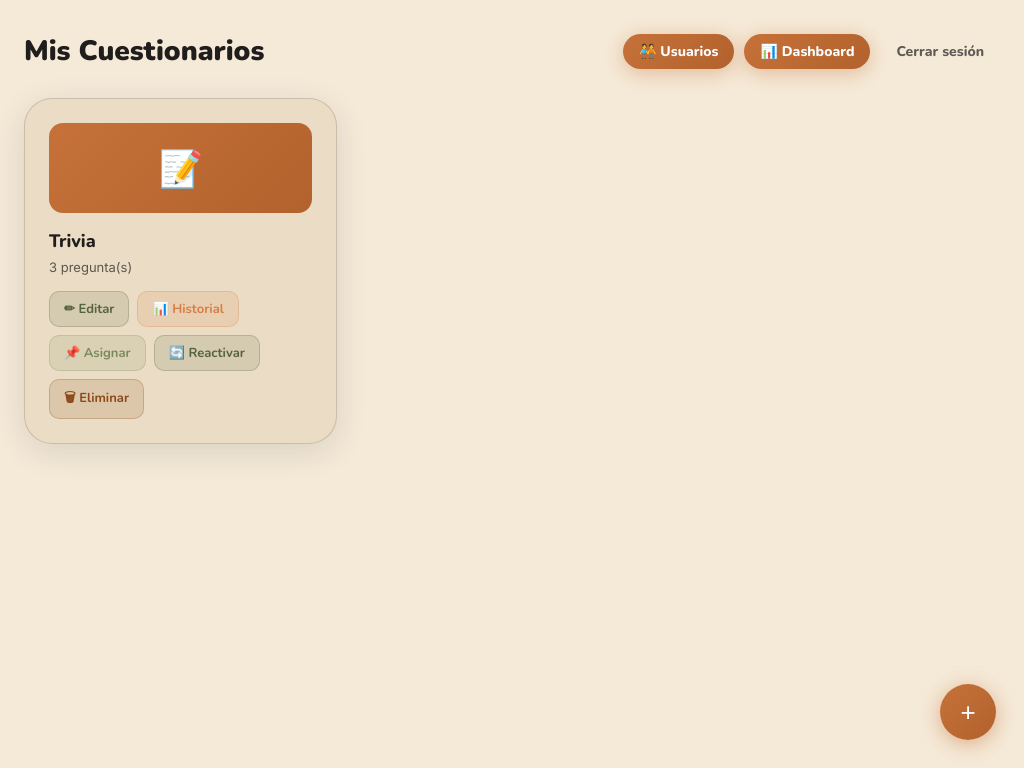
Test: QuizListView — Asignar popup › renders skipped count in the result summary and leaves the popup open
Step 1. Click the button with class "btn-assign" → coordinates (97, 353), box left=49, top=335, right=146, bottom=371
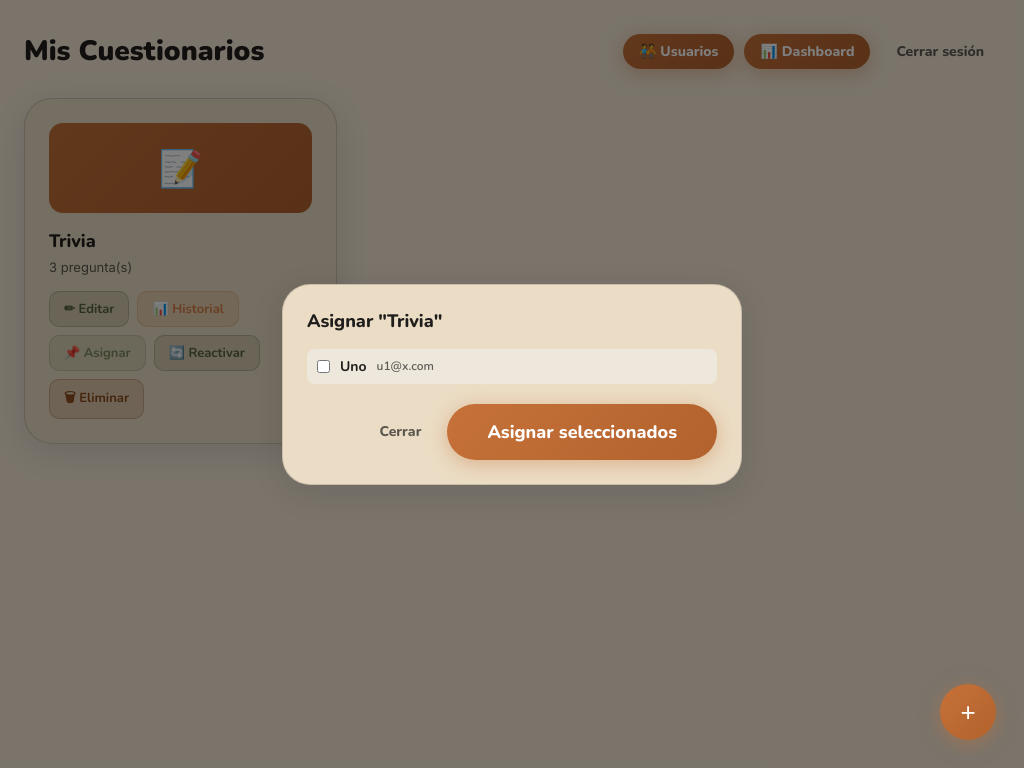
Step 2. Click the checkbox labelled "Uno u1@x.com" → coordinates (324, 366), box left=317, top=360, right=330, bottom=372
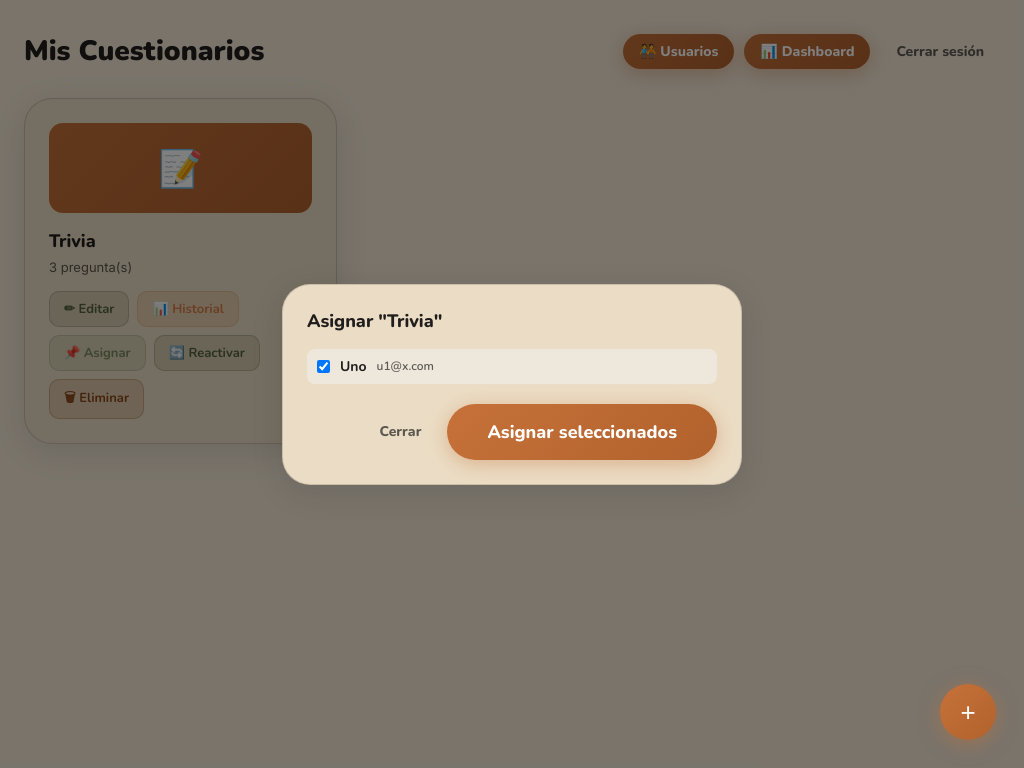
Step 3. Click the button "Asignar seleccionados" → coordinates (582, 432), box left=447, top=404, right=717, bottom=460
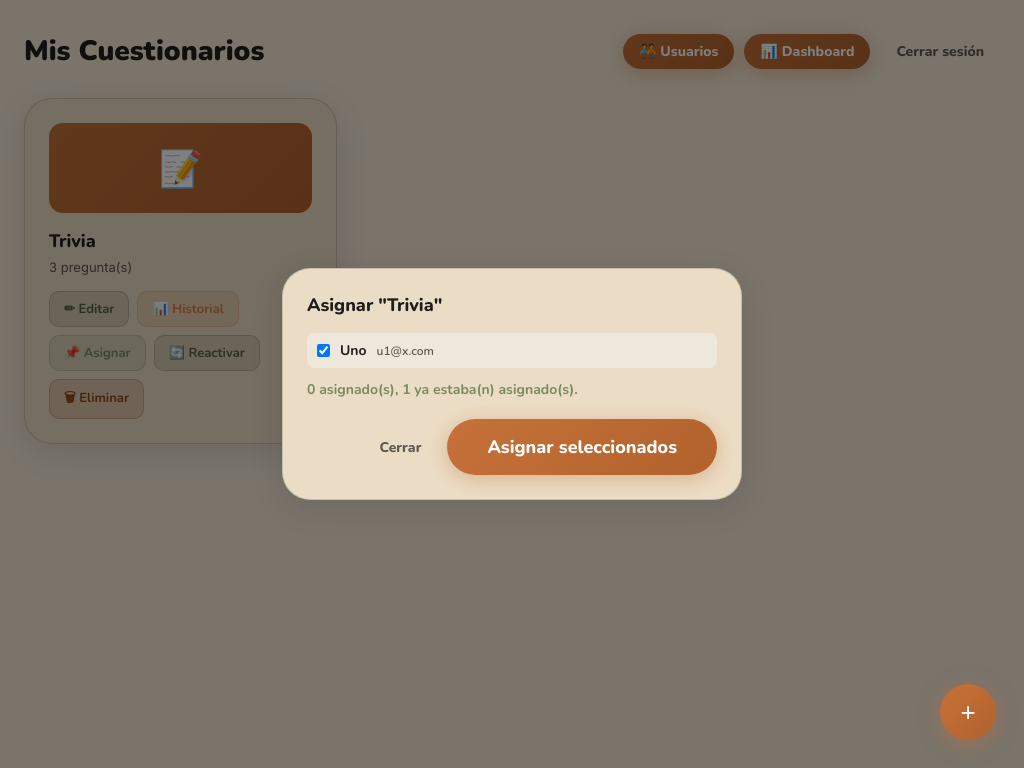
Now the element with class "assign-overlay" is shown
Now the text "0 asignado(s), 1 ya estaba(n) asignado(s)" is shown, box left=307, top=380, right=578, bottom=399
